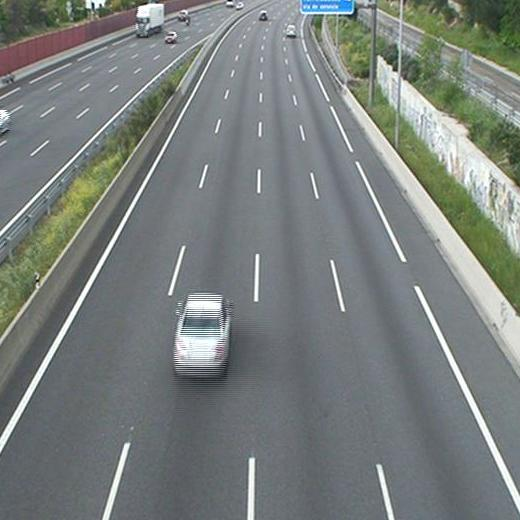car: (171, 292, 233, 380)
